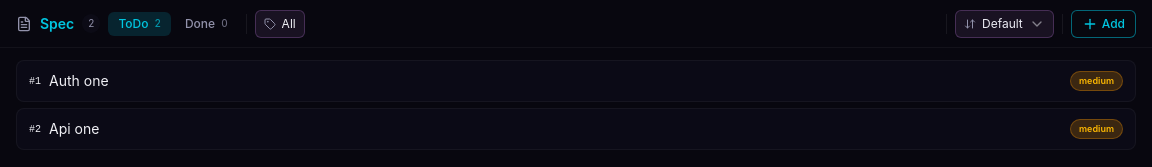
Scenario: SpecsBoard label filter dropdown › All entry clears the active selection
Click the button with test id "spec-label-filter-dropdown": (280, 24) [255,10,305,38]
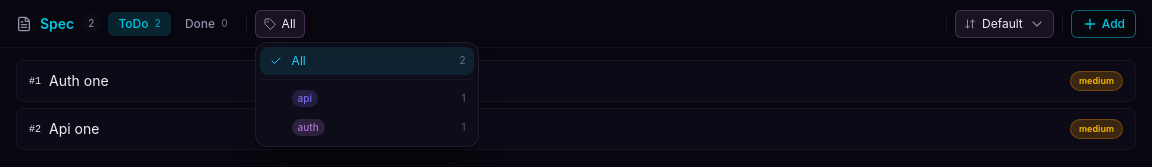
Click the text "auth": (308, 127) [292,119,325,136]
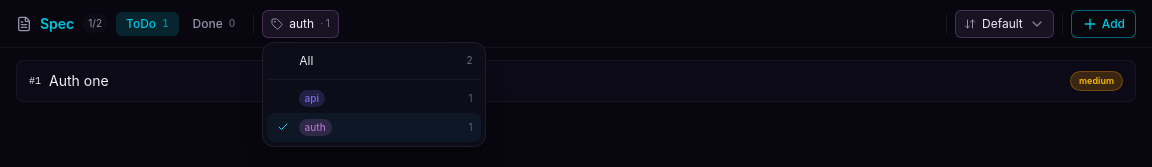
Now the button "Api one" is gone
Click the text "All": (306, 60) [299,52,313,68]
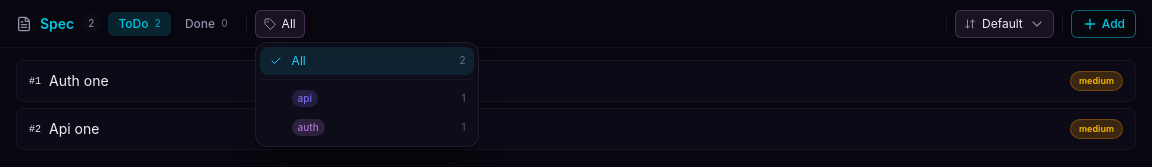
Now the text "Api one" is shown, box [49,120,99,137]
